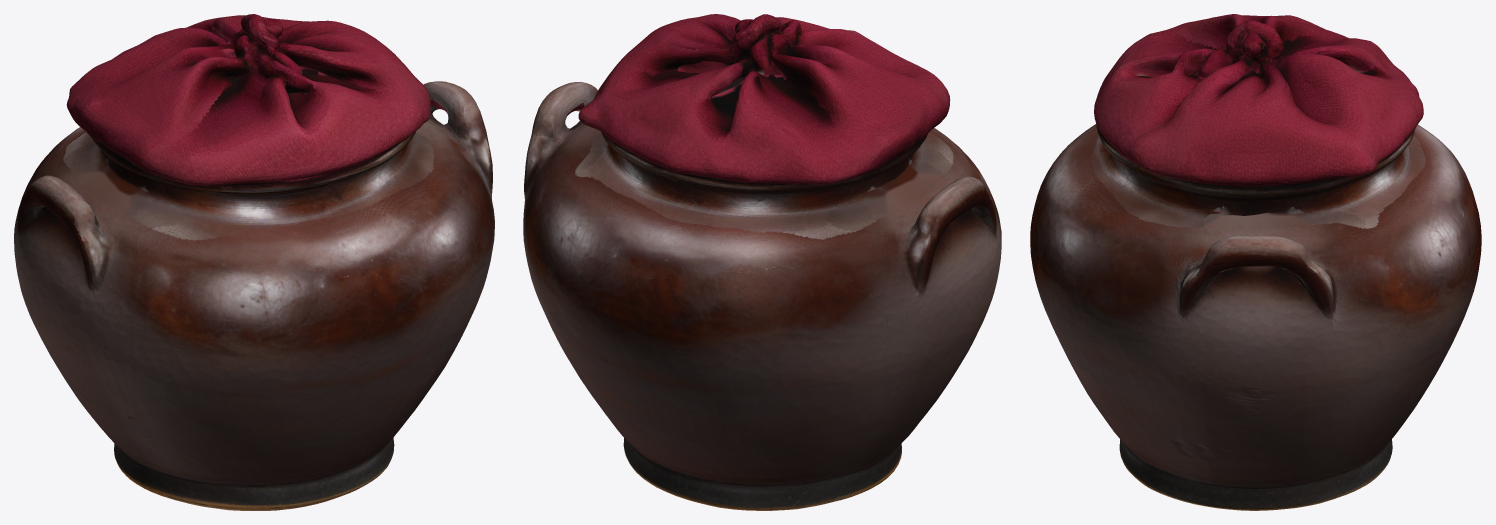
The model's file is traveler_env_coast_cakon_market_crock_00001_.glb.
3 renders of one model, left to right at view 1: azimuth 30°, elevation 25°; view 2: azimuth 150°, elevation 25°; view 3: azimuth 270°, elevation 25°, orthographic.
Visible parts, largest first — view 1: temp_mesh.ply; view 2: temp_mesh.ply; view 3: temp_mesh.ply.
Part boxes in pixels (left/top/right/bottom): temp_mesh.ply: left=14, top=14, right=494, bottom=510; temp_mesh.ply: left=523, top=14, right=1001, bottom=510; temp_mesh.ply: left=1030, top=14, right=1481, bottom=510.
Size of the model in its own units: 1.52 by 1.51 by 1.41.
Materials: 1 (1 with a texture image).
